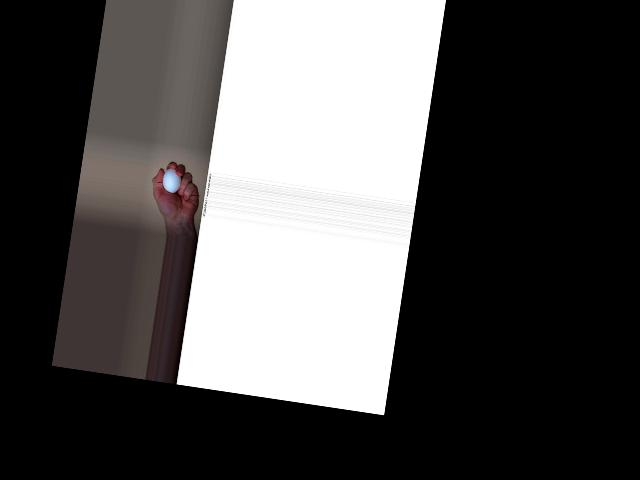egg: (161, 167, 182, 195)
